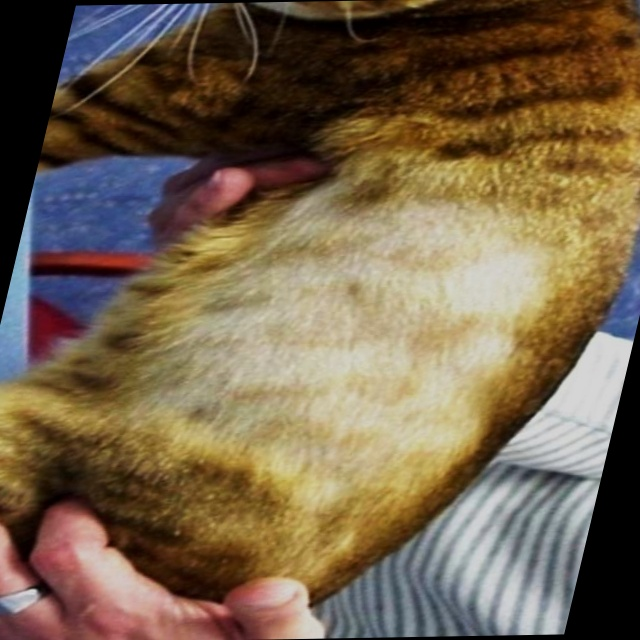hairloss: (136, 185, 601, 440)
